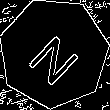N_NE: (23, 21, 85, 85)
